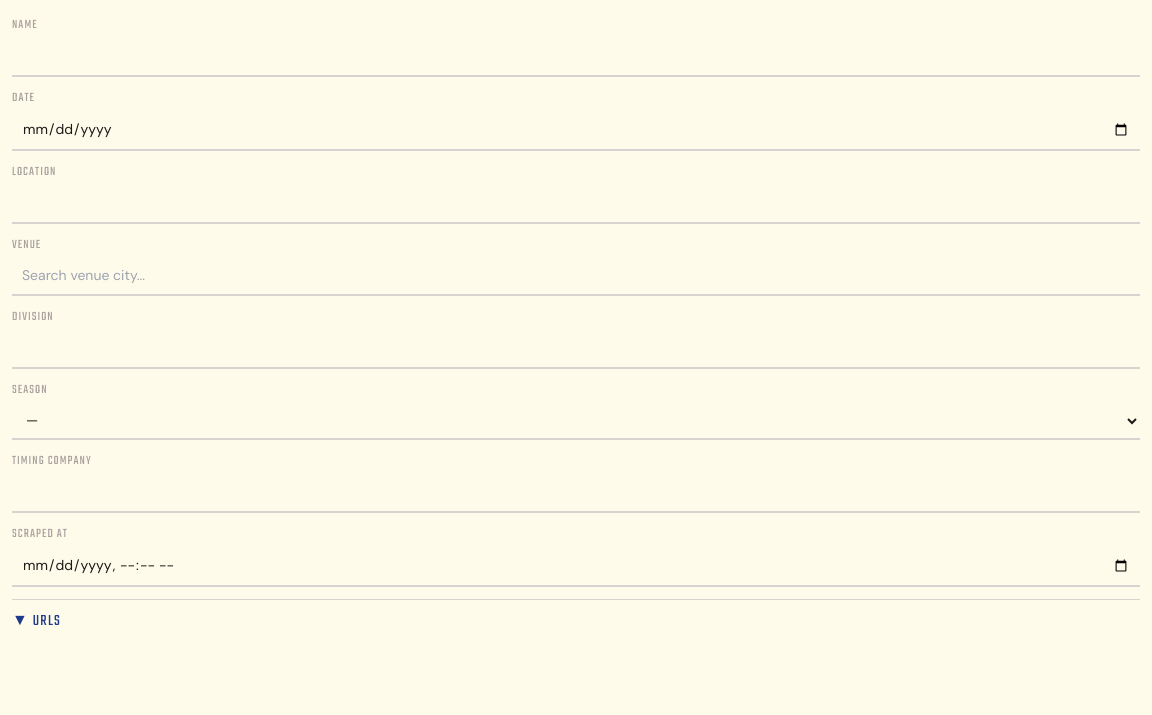
Scenario: MeetForm › closes URL section on second toggle button click
Click the button "▼ URLs": (37, 622) [12,610,61,634]
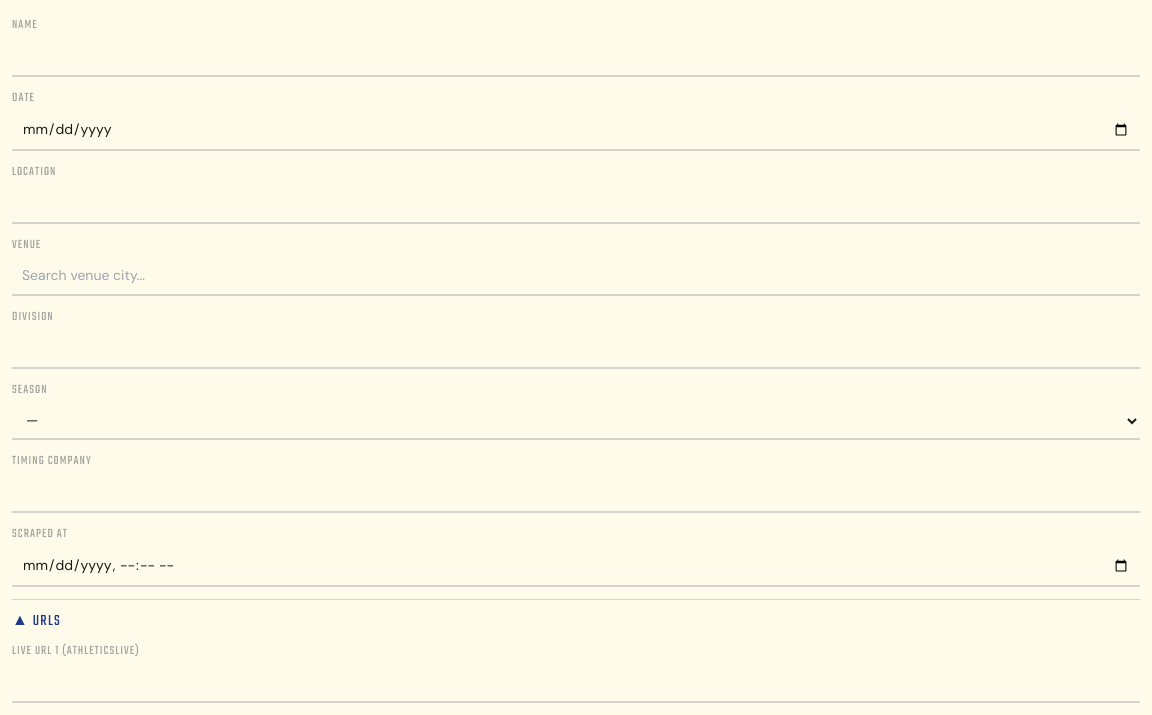
Now the field labelled "Live URL 1 (AthleticsLive)" is shown, box [12,664,1140,702]
Click the button "▲ URLs": (37, 622) [12,610,61,634]
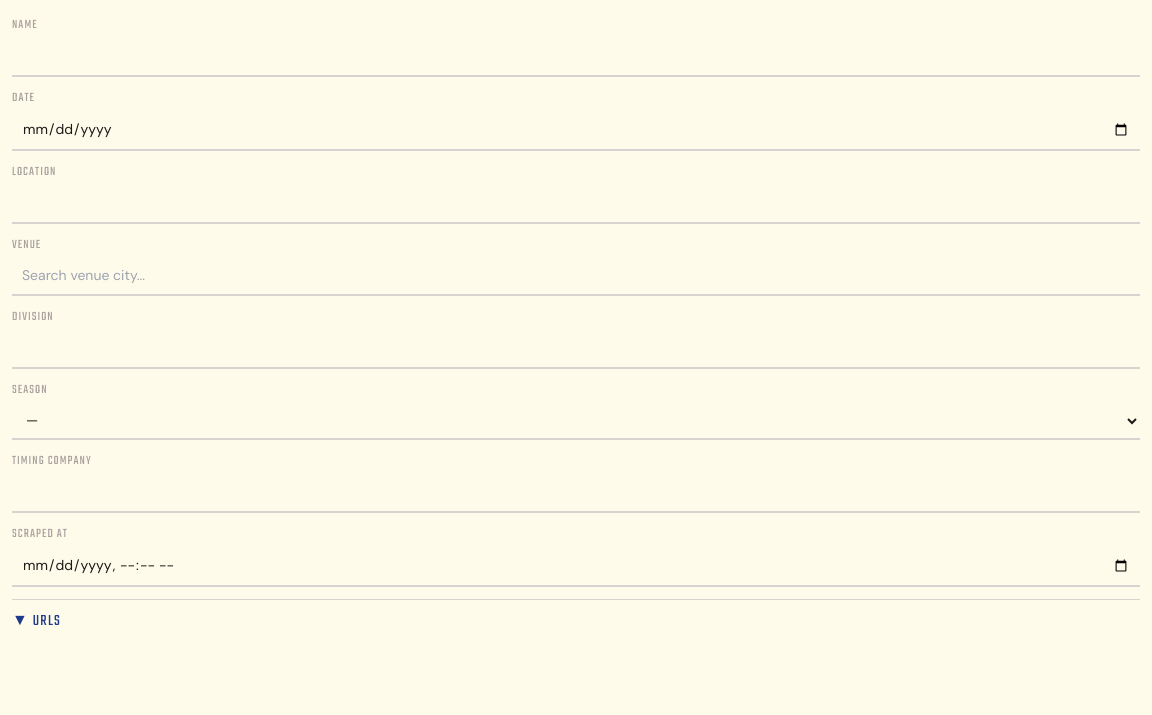
Now the label labelled "Live URL 1 (Athletics" is gone
